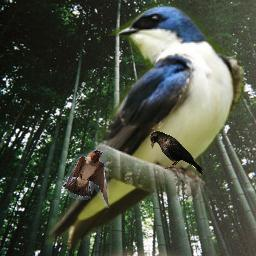Crow: (150, 131, 204, 174)
Swallow: (45, 3, 246, 250), (63, 150, 109, 208)
